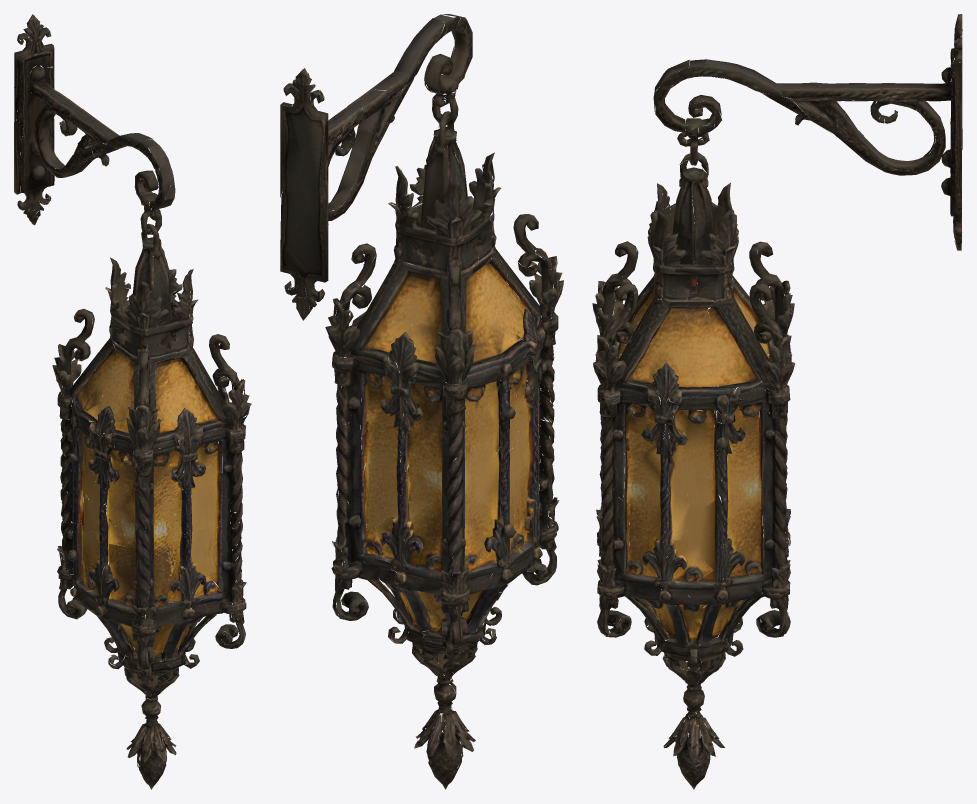
File: h_yellin_lantern.glb
3 views of the same model, side by side, from view 1: azimuth 30°, elevation 25°; view 2: azimuth 150°, elevation 25°; view 3: azimuth 270°, elevation 25° (orthographic). The views are drawn at different scales.
Parts seen in each view (by area): view 1: tripo_node_0e6810a3-5d26-463b-90e5-add963c34306; view 2: tripo_node_0e6810a3-5d26-463b-90e5-add963c34306; view 3: tripo_node_0e6810a3-5d26-463b-90e5-add963c34306.
Part boxes in pixels (x1,y1,x2,y2): tripo_node_0e6810a3-5d26-463b-90e5-add963c34306: (14, 14, 251, 789); tripo_node_0e6810a3-5d26-463b-90e5-add963c34306: (280, 14, 563, 789); tripo_node_0e6810a3-5d26-463b-90e5-add963c34306: (592, 14, 962, 789).
Bounding box in the file's own units: 0.2108 × 0.9796 × 0.4234.
Materials: 1 (1 with a texture image).
